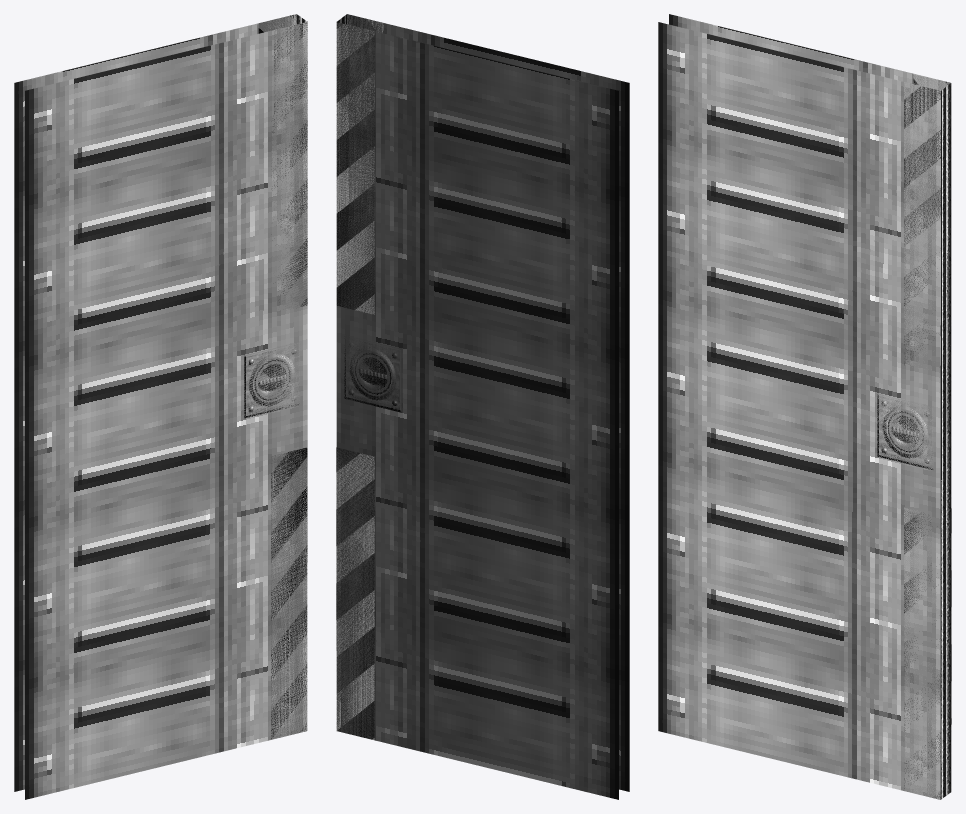
Rendered from Psteel_door1Z.obj.
3 renders of one model, left to right at view 1: azimuth 30°, elevation 25°; view 2: azimuth 150°, elevation 25°; view 3: azimuth 330°, elevation 25°, orthographic.
Size of the model in its own units: 876 by 2100 by 58.
Materials: 4 (4 with a texture image).
